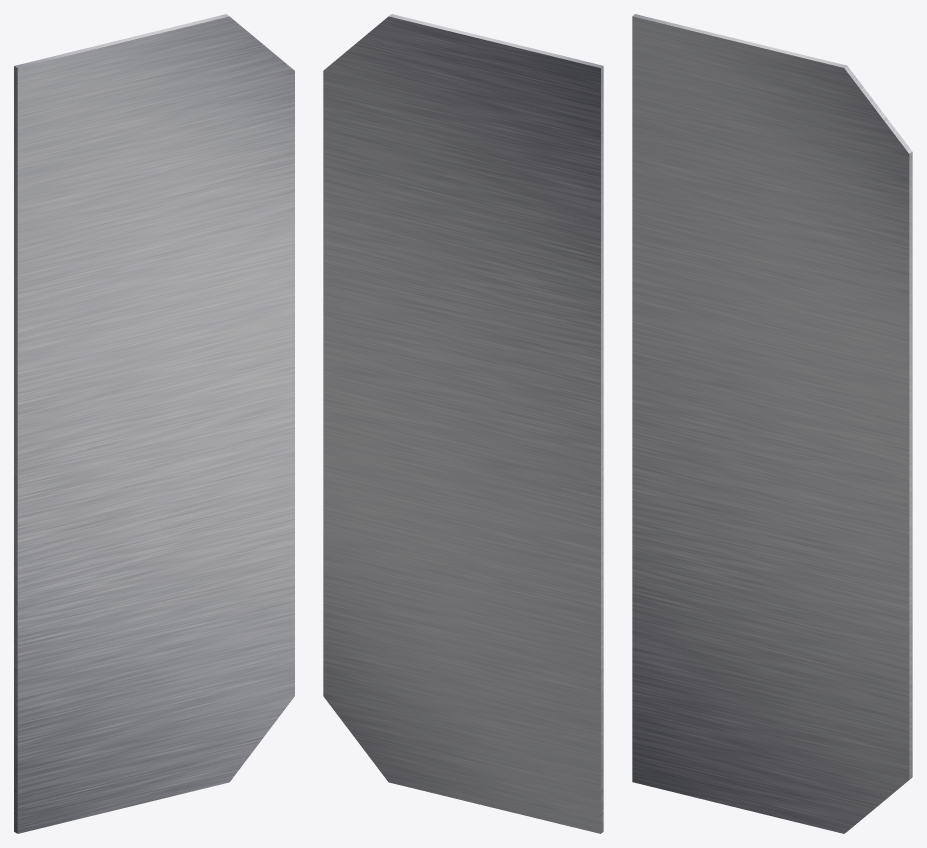
Rendered from tray.dae.
3 renders of one model, left to right at view 1: azimuth 30°, elevation 25°; view 2: azimuth 150°, elevation 25°; view 3: azimuth 330°, elevation 25°, orthographic.
Parts seen in each view (by area): view 1: STL object_cut2-0; view 2: STL object_cut2-0; view 3: STL object_cut2-0.
Boxes of the visible parts, <box> form: STL object_cut2-0: <box>14,14,294,833</box>; STL object_cut2-0: <box>323,14,603,833</box>; STL object_cut2-0: <box>632,14,912,833</box>.
Bounding box in the file's own units: 0.2495 × 0.6582 × 0.00505.
Materials: 1 (1 with a texture image).
